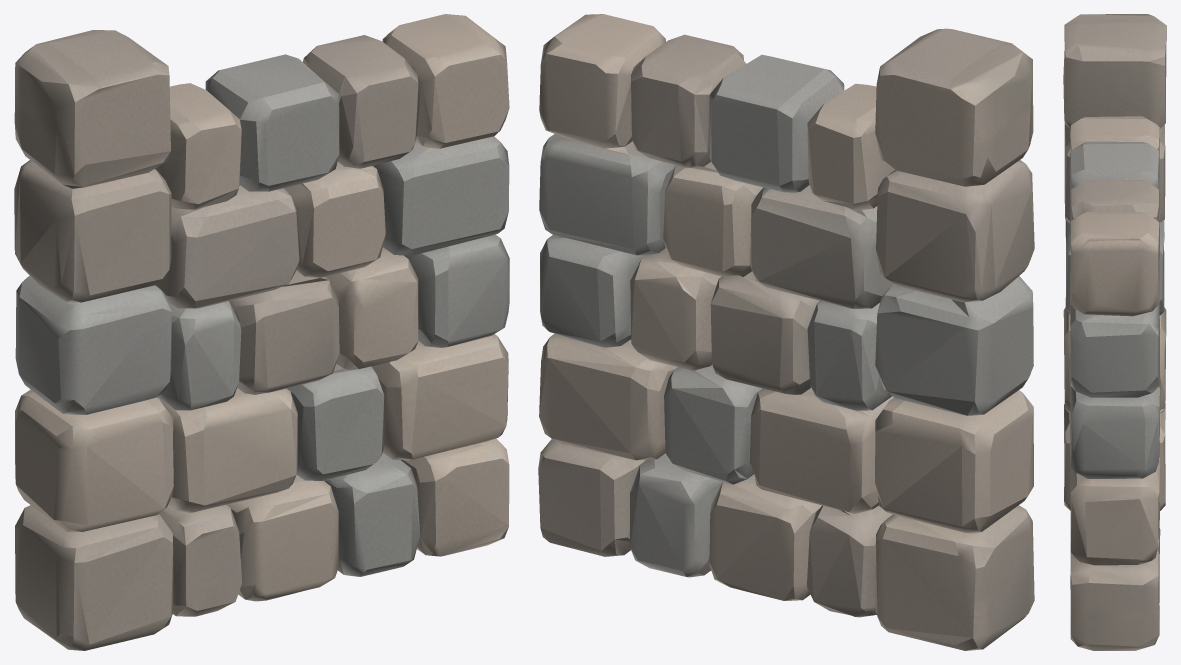
Rendered from cobbleWall.glb.
3 renders of one model, left to right at view 1: azimuth 30°, elevation 25°; view 2: azimuth 150°, elevation 25°; view 3: azimuth 270°, elevation 25°, orthographic. The views are drawn at different scales.
Parts seen in each view (by area): view 1: Mesh_0; view 2: Mesh_0; view 3: Mesh_0.
Boxes of the visible parts, left/top/right/bottom form: Mesh_0: left=14, top=14, right=509, bottom=650; Mesh_0: left=538, top=14, right=1034, bottom=650; Mesh_0: left=1063, top=14, right=1166, bottom=650.
Bounding box in the file's own units: 1 × 1.2 × 0.24.
Materials: 1 (1 with a texture image).
